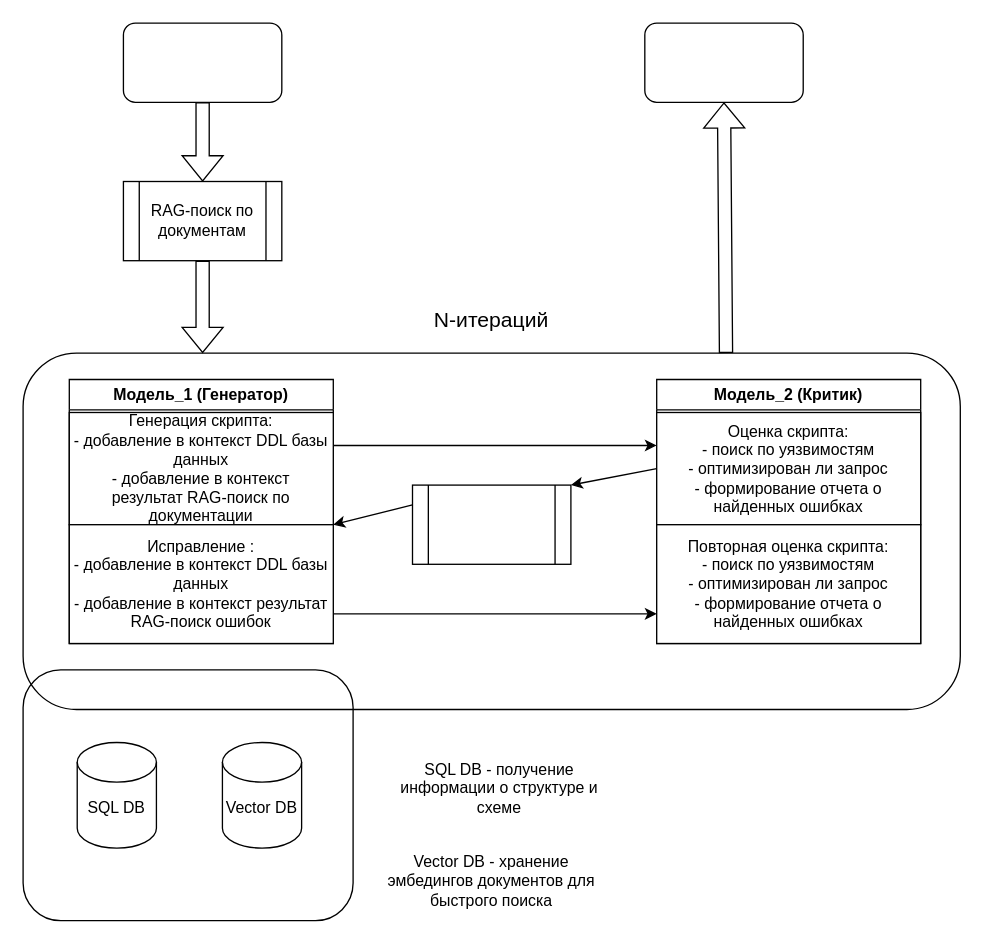
Image size: 983x950. Some labels were removed from this diagram. The shapes that lost their labels are listed below. From the top down, each one's centre as x and y in pixels, then its label:
the point at 202,62: Запрос
the point at 723,62: Ответ
the point at 491,524: RAG-поиск найденных ошибок
